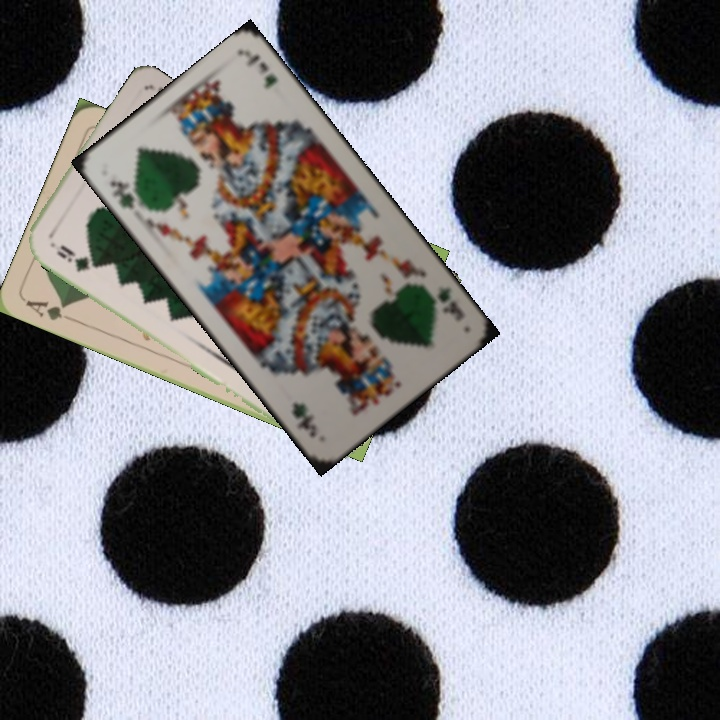G9: (46, 238, 100, 275)
GA: (22, 296, 78, 325)
GK: (433, 282, 467, 324), (105, 176, 138, 212)
